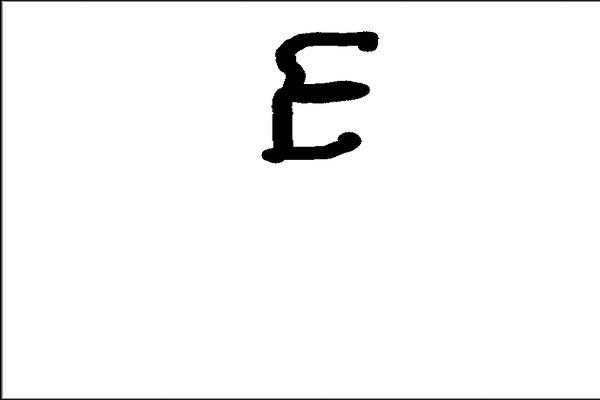E: (257, 23, 380, 167)
